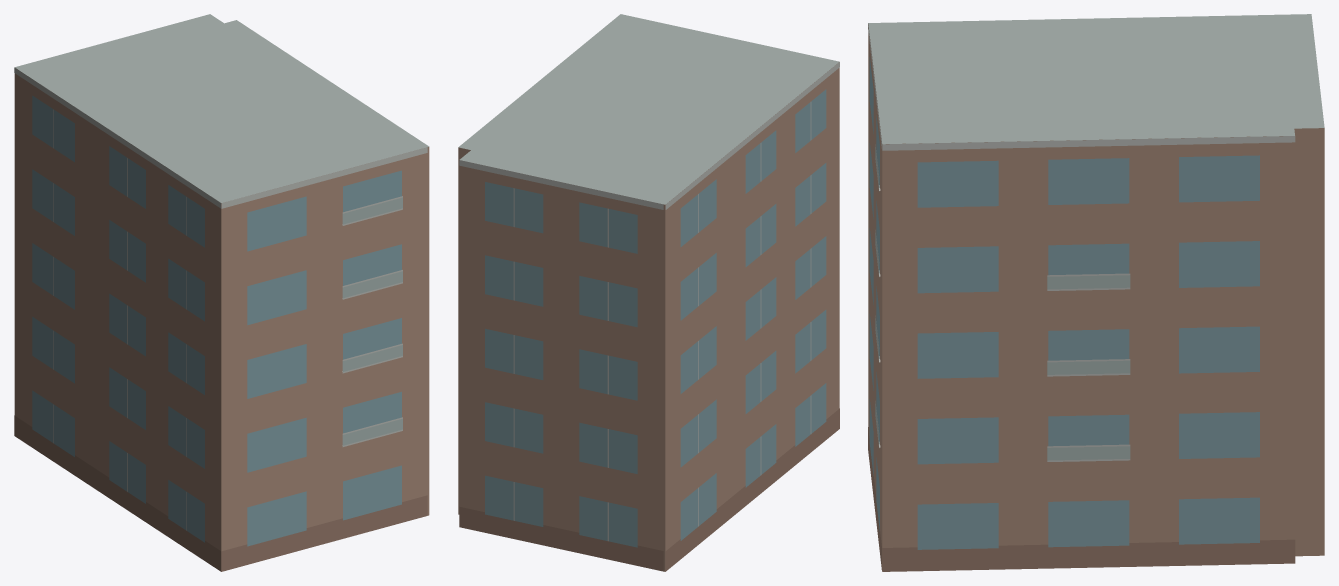
File: survey-upis-32617614.glb
3 views of the same model, side by side, from view 1: azimuth 30°, elevation 25°; view 2: azimuth 150°, elevation 25°; view 3: azimuth 270°, elevation 25° (orthographic). The views are drawn at different scales.
Visible parts, largest first — view 1: survey-upis-32617614.tmp; view 2: survey-upis-32617614.tmp; view 3: survey-upis-32617614.tmp.
Boxes of the visible parts, box(x1,y1,x2,y2) form: survey-upis-32617614.tmp: box(14, 14, 429, 571); survey-upis-32617614.tmp: box(458, 14, 839, 571); survey-upis-32617614.tmp: box(868, 14, 1324, 571).
Bounding box in the file's own units: 10.3 × 15.77 × 15.26.
